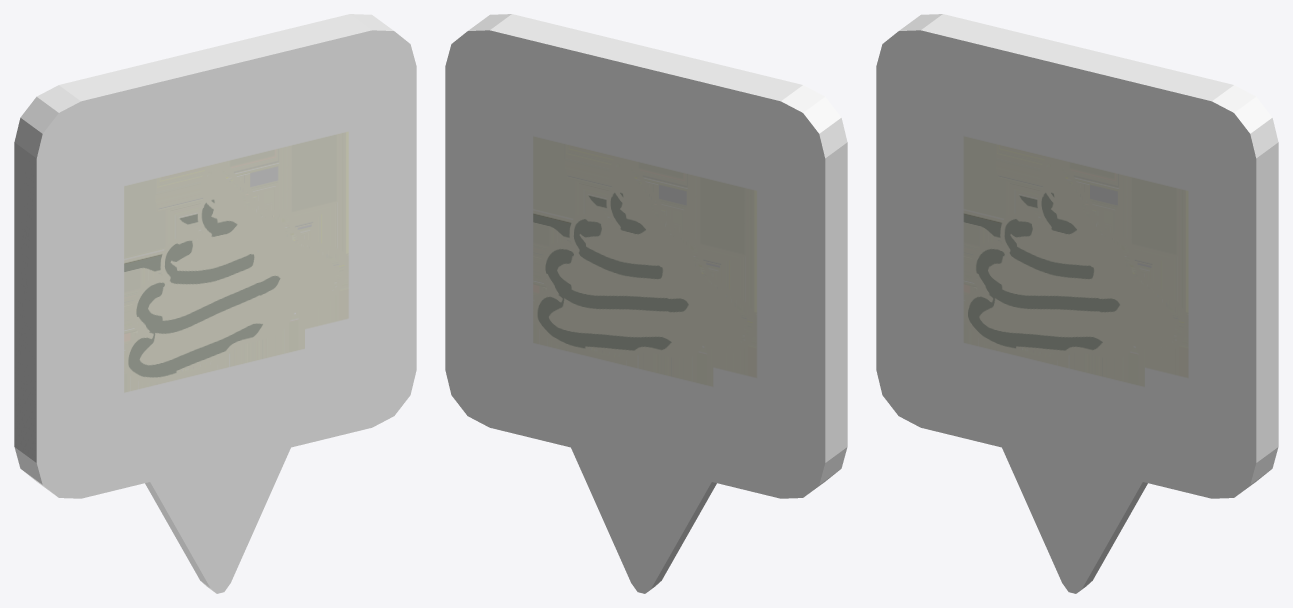
Rendered from prodpin-sahne.fbx.
3 views of the same model, side by side, from view 1: azimuth 30°, elevation 25°; view 2: azimuth 150°, elevation 25°; view 3: azimuth 330°, elevation 25° (orthographic).
Parts seen in each view (by area): view 1: ProdPIn; view 2: ProdPIn; view 3: ProdPIn.
Part boxes in pixels (box(x1,y1,x2,y2)): ProdPIn: box(14, 14, 416, 593); ProdPIn: box(445, 14, 847, 593); ProdPIn: box(876, 14, 1278, 593).
Bounding box in the file's own units: 200 × 268 × 20.35.
1 material, 1 textured.
